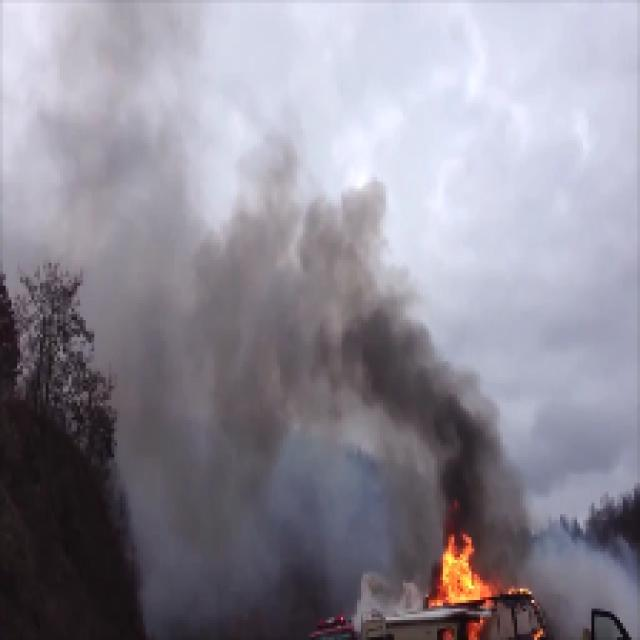smoke: (3, 3, 210, 317), (216, 188, 422, 436), (428, 360, 520, 521)
